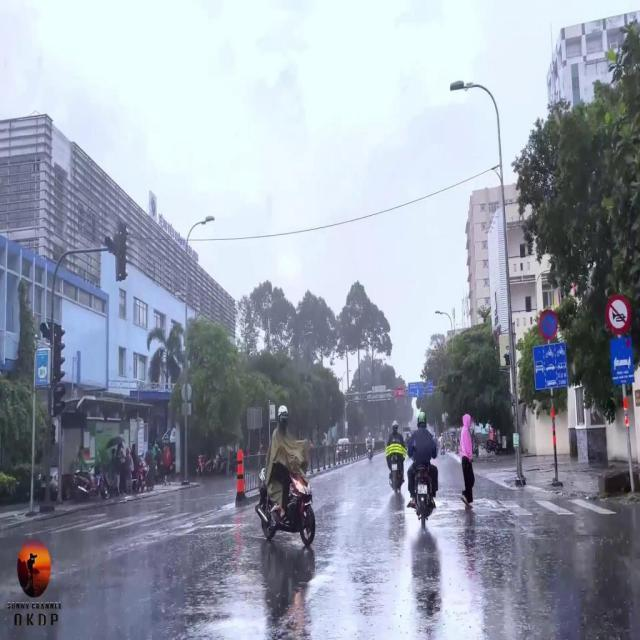128-cam-su-dung-coi: (606, 293, 632, 336)
131a-cam-do-xe: (539, 308, 557, 340)
